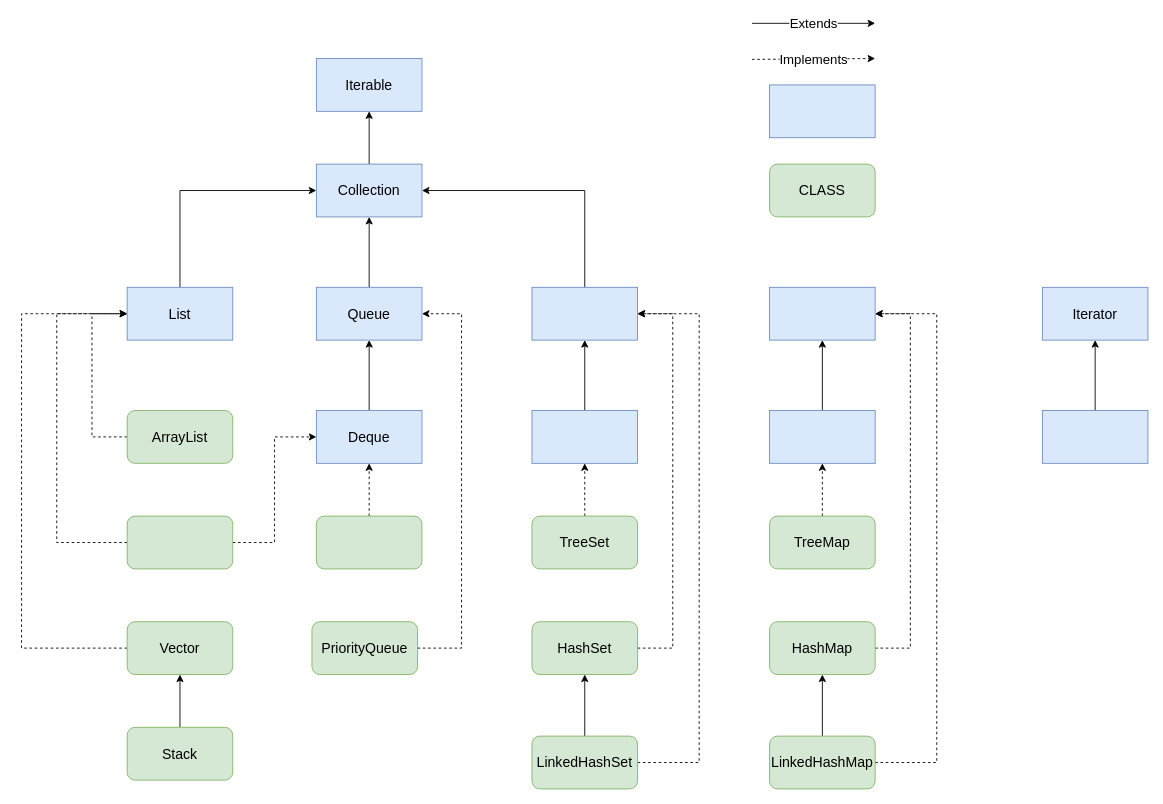
Image size: 1163x804. Some labels were removed from this diagram. Each missing label, with the centre of its shape:
ArrayDeque: [368,542]
Interface: [822,111]
LinkedList: [179,542]
ListIterator: [1094,436]
Map: [822,313]
Set: [584,313]
SortedMap: [822,436]
SortedSet: [584,436]
